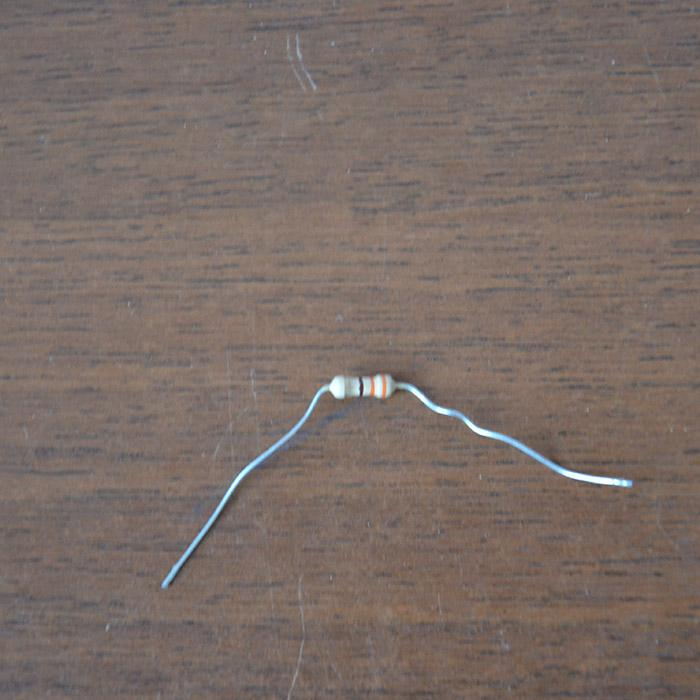resistor: (329, 371, 396, 400)
